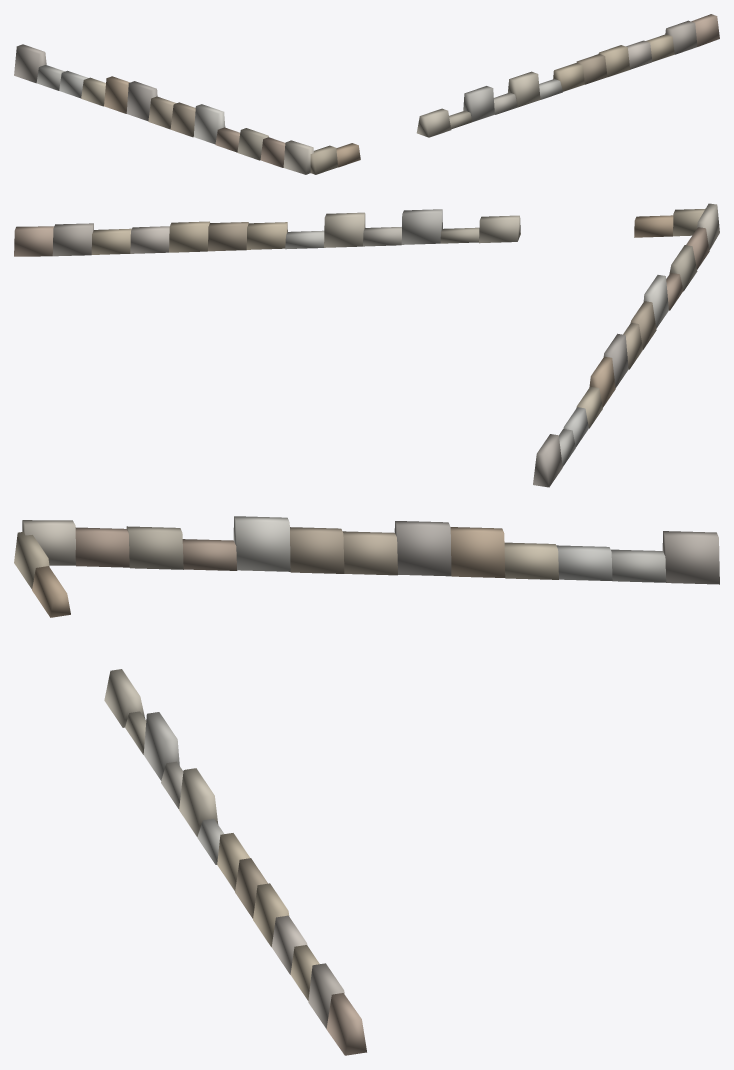
File: farm_30_22_collision.glb
3 renders of one model, top to bottom at view 1: azimuth 30°, elevation 25°; view 2: azimuth 150°, elevation 25°; view 3: azimuth 270°, elevation 25°, orthographic. The views are drawn at different scales.
Visible parts, largest first — view 1: geometry_0; view 2: geometry_0; view 3: geometry_0.
Boxes of the visible parts, x1,y1,x2,y2 form: geometry_0: (14,14,719,174); geometry_0: (14,203,719,487); geometry_0: (14,516,719,1055).
Size of the model in its own units: 31.1 by 4.56 by 20.62.
